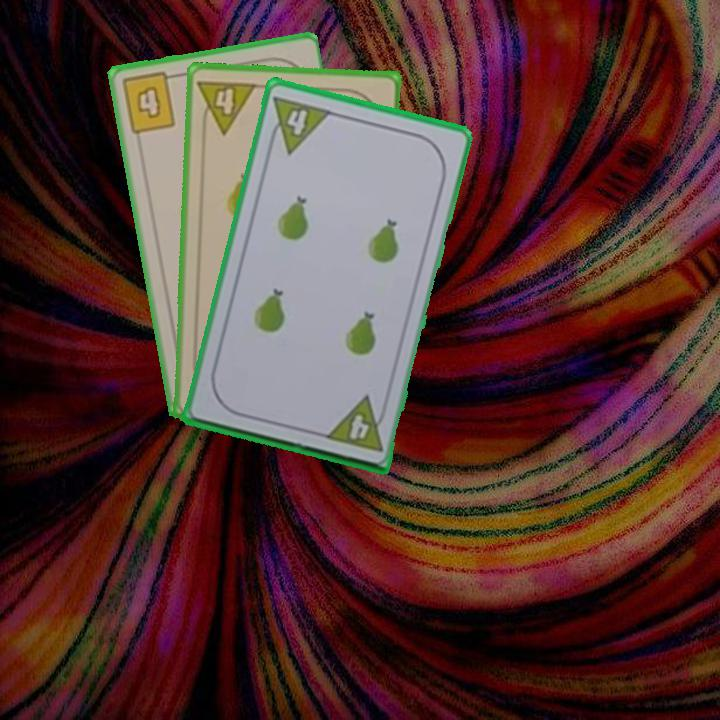4b: (117, 69, 181, 137)
4p: (263, 92, 334, 157), (321, 393, 390, 454), (194, 76, 259, 137)
